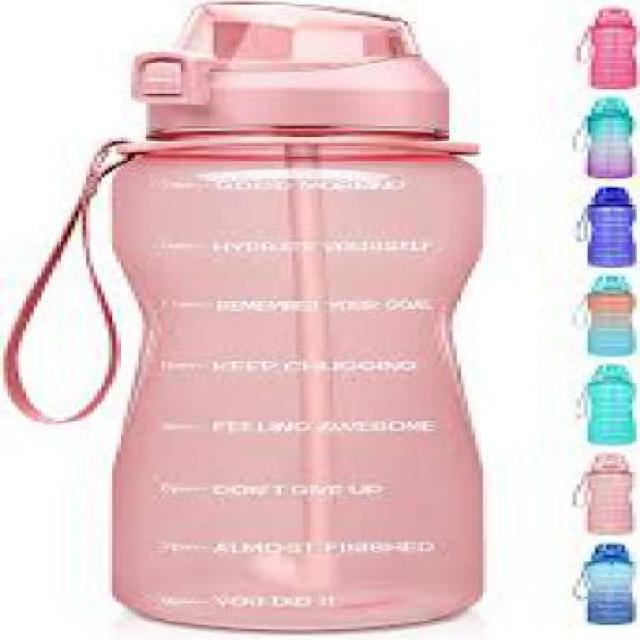Drinking: (63, 0, 531, 638)
